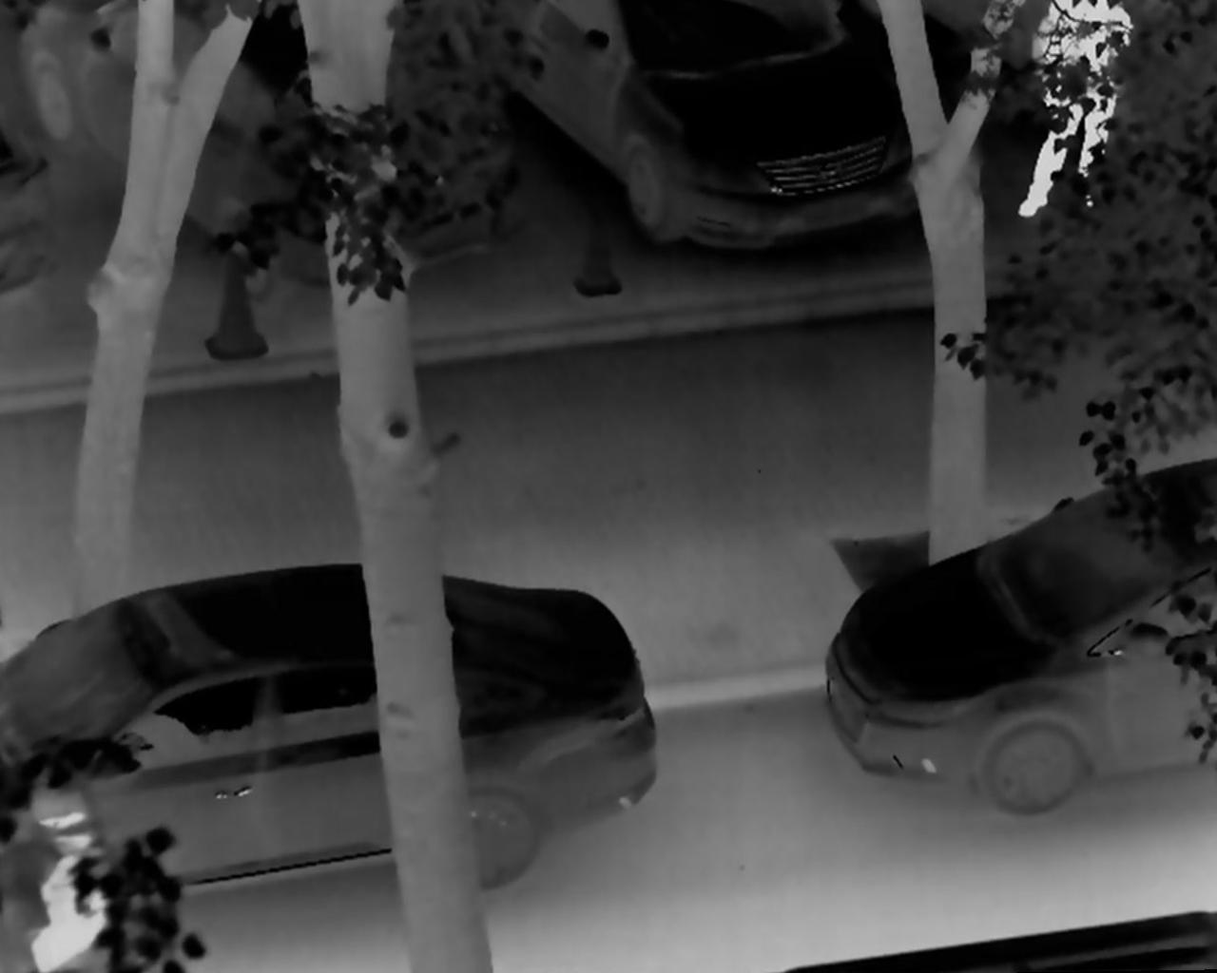person: (23, 798, 114, 973)
